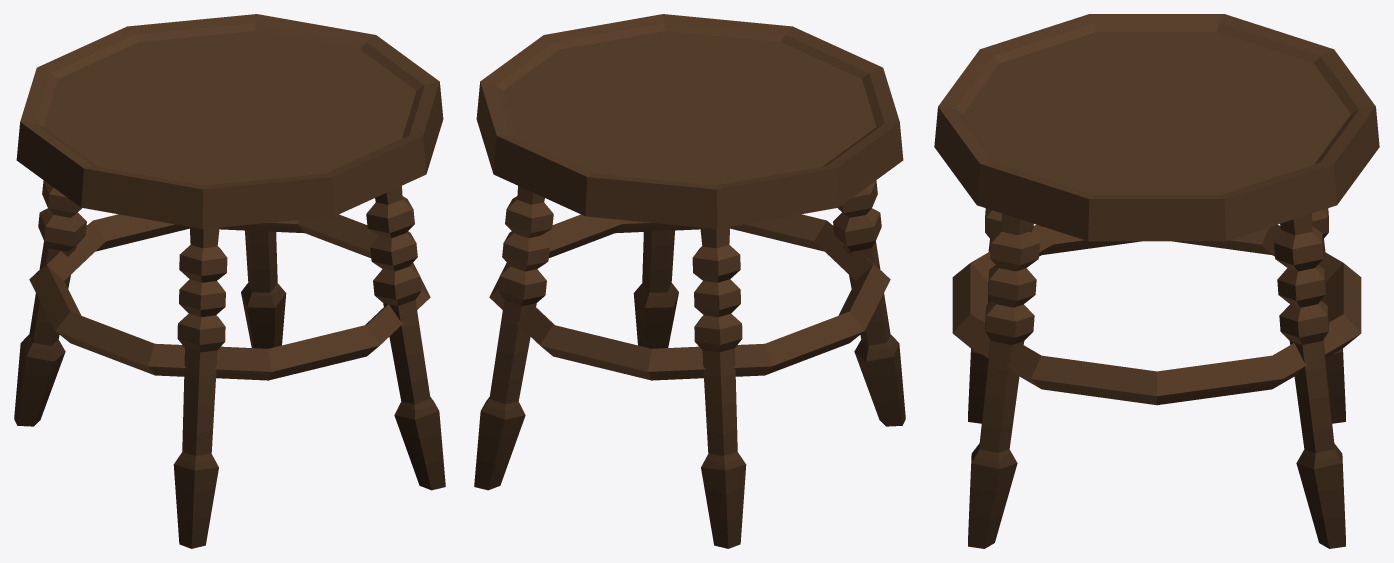
File: Stool.fbx
3 renders of one model, left to right at view 1: azimuth 30°, elevation 25°; view 2: azimuth 150°, elevation 25°; view 3: azimuth 270°, elevation 25°, orthographic. The views are drawn at different scales.
Visible parts, largest first — view 1: stool_simple_steampunk; view 2: stool_simple_steampunk; view 3: stool_simple_steampunk.
Part boxes in pixels (box(x1,y1,x2,y2)): stool_simple_steampunk: box(14, 14, 445, 548); stool_simple_steampunk: box(474, 14, 905, 548); stool_simple_steampunk: box(934, 14, 1379, 548).
Bounding box in the file's own units: 49.57 × 45.94 × 49.57.
